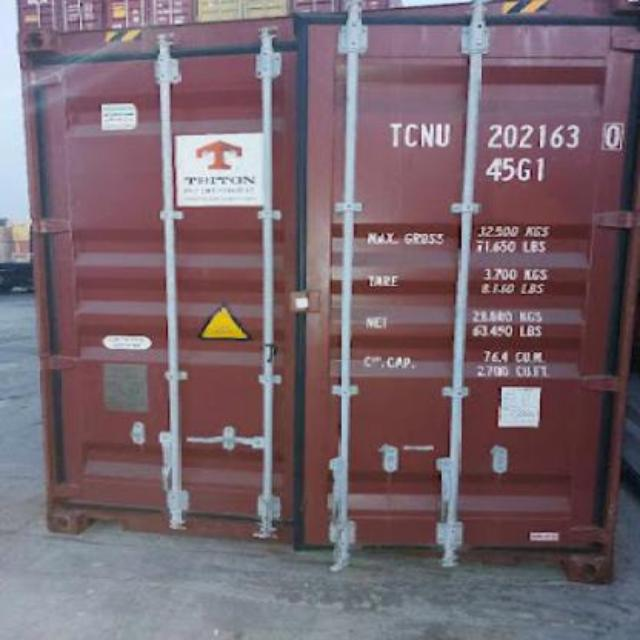0: (602, 121, 626, 151), (500, 118, 520, 152)
1: (532, 113, 550, 151)
2: (516, 117, 534, 149), (488, 117, 502, 153)
3: (566, 118, 582, 152)
6: (550, 117, 566, 149)
C: (402, 117, 418, 149)
N: (414, 116, 434, 152)
T: (388, 117, 404, 149)
U: (434, 113, 450, 153)
